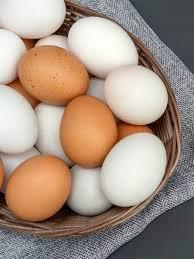egg: (99, 132, 168, 212), (6, 150, 70, 223), (66, 16, 142, 76), (58, 95, 118, 167), (17, 43, 90, 101), (104, 66, 171, 127), (0, 84, 40, 158), (0, 0, 67, 41)
